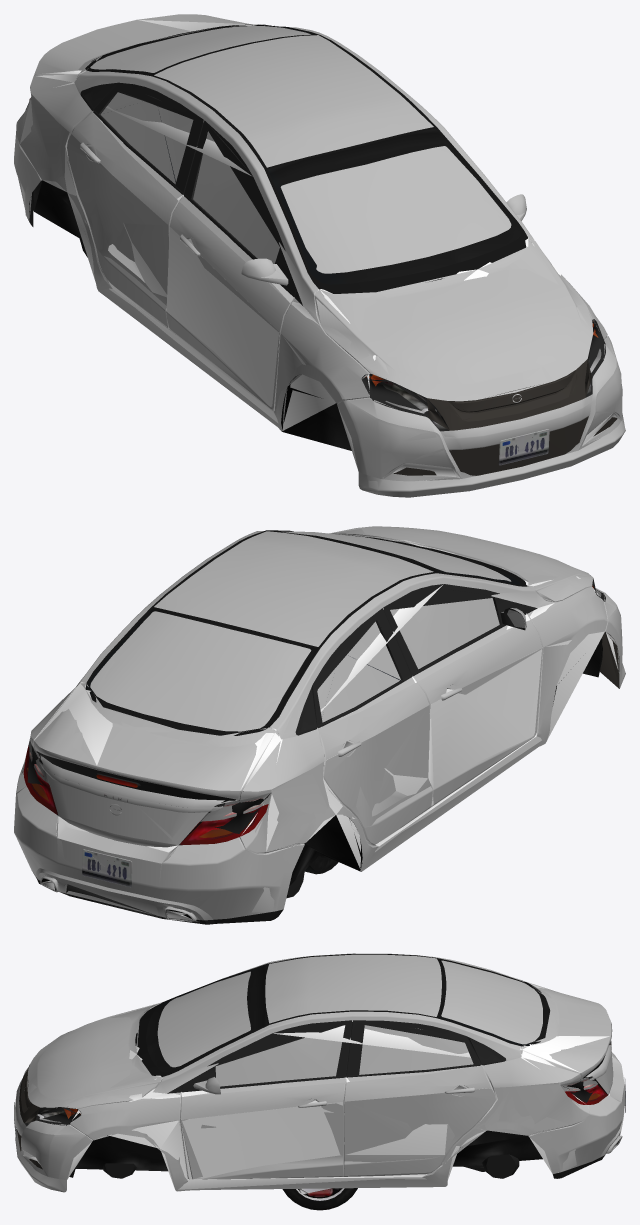
The model's file is kiri.glb.
3 views of the same model, one above another, from view 1: azimuth 30°, elevation 25°; view 2: azimuth 150°, elevation 25°; view 3: azimuth 270°, elevation 25° (orthographic). The views are drawn at different scales.
Parts seen in each view (by area): view 1: paint0, glass0, far, kit0, paint1, glass1, kit1; view 2: paint0, far, glass0, kit0, paint1, glass1, kit1; view 3: paint0, far, glass0, paint1, kit0, glass1, kit1, wheel0.
Boxes of the visible parts, left/top/right/bottom form: paint0: left=14, top=14, right=625, bottom=497; glass0: left=90, top=26, right=511, bottom=273; far: left=20, top=20, right=616, bottom=481; kit0: left=29, top=24, right=617, bottom=475; paint1: left=18, top=15, right=624, bottom=489; glass1: left=90, top=26, right=466, bottom=272; kit1: left=25, top=26, right=605, bottom=465; paint0: left=14, top=526, right=625, bottom=919; far: left=27, top=531, right=619, bottom=924; glass0: left=90, top=531, right=511, bottom=731; kit0: left=23, top=530, right=619, bottom=924; paint1: left=15, top=528, right=624, bottom=919; glass1: left=90, top=532, right=508, bottom=731; kit1: left=23, top=573, right=619, bottom=921; paint0: left=14, top=953, right=624, bottom=1192; far: left=23, top=959, right=610, bottom=1189; glass0: left=157, top=960, right=542, bottom=1078; paint1: left=15, top=962, right=623, bottom=1191; kit0: left=14, top=954, right=625, bottom=1178; glass1: left=175, top=971, right=542, bottom=1086; kit1: left=14, top=959, right=624, bottom=1176; wheel0: left=282, top=1188, right=357, bottom=1210.
Size of the model in its own units: 1.71 by 1.78 by 4.36.
1 material, 1 textured.
